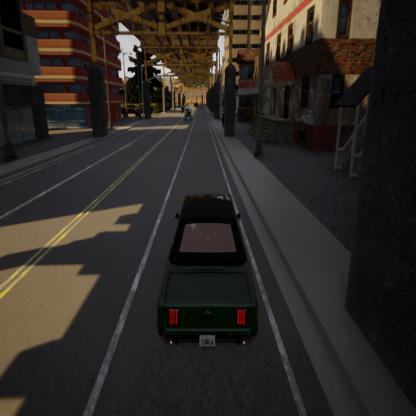Cars: (152, 186, 265, 357), (184, 102, 192, 122), (180, 103, 187, 114)
